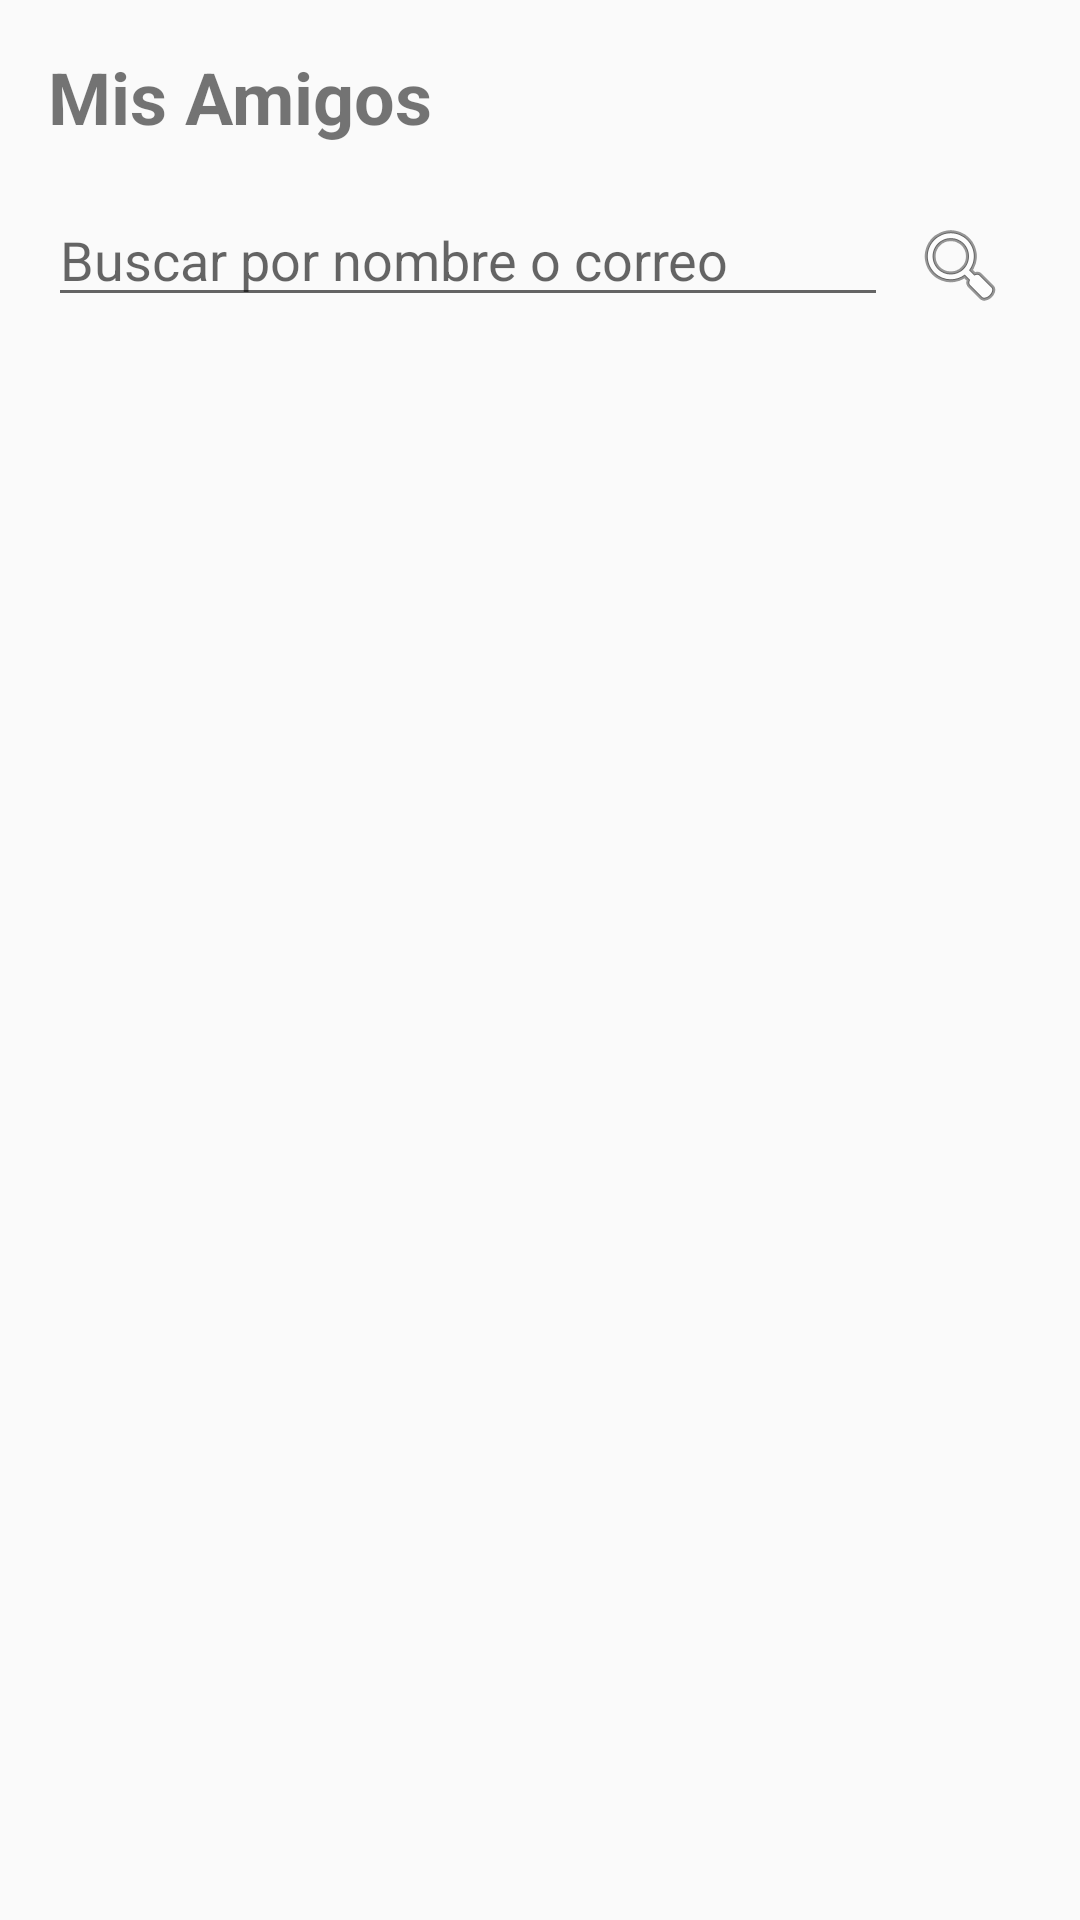

Where icons sit on this 1080px x 1920px app screen, as (x1, y1, x2, y2):
search: (924, 230, 996, 301)
